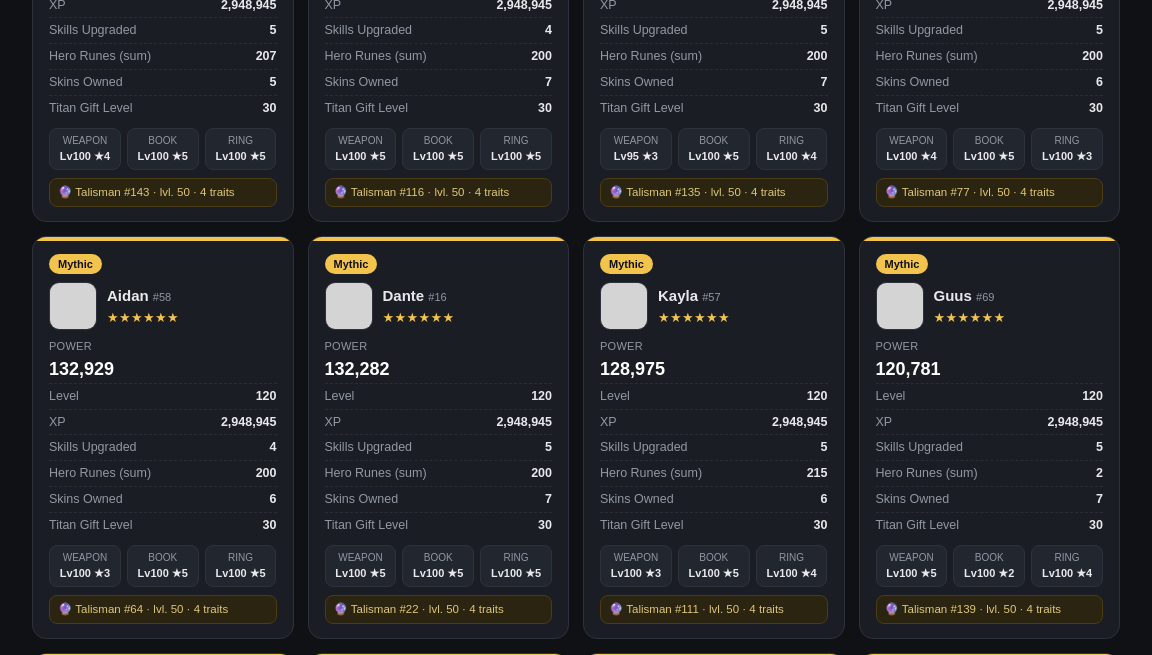
the card links to the hero page, which lists the counters
(page scrolled)
Click the link "Aidan" at (128, 296), box [107, 287, 149, 304]
(page scrolled)
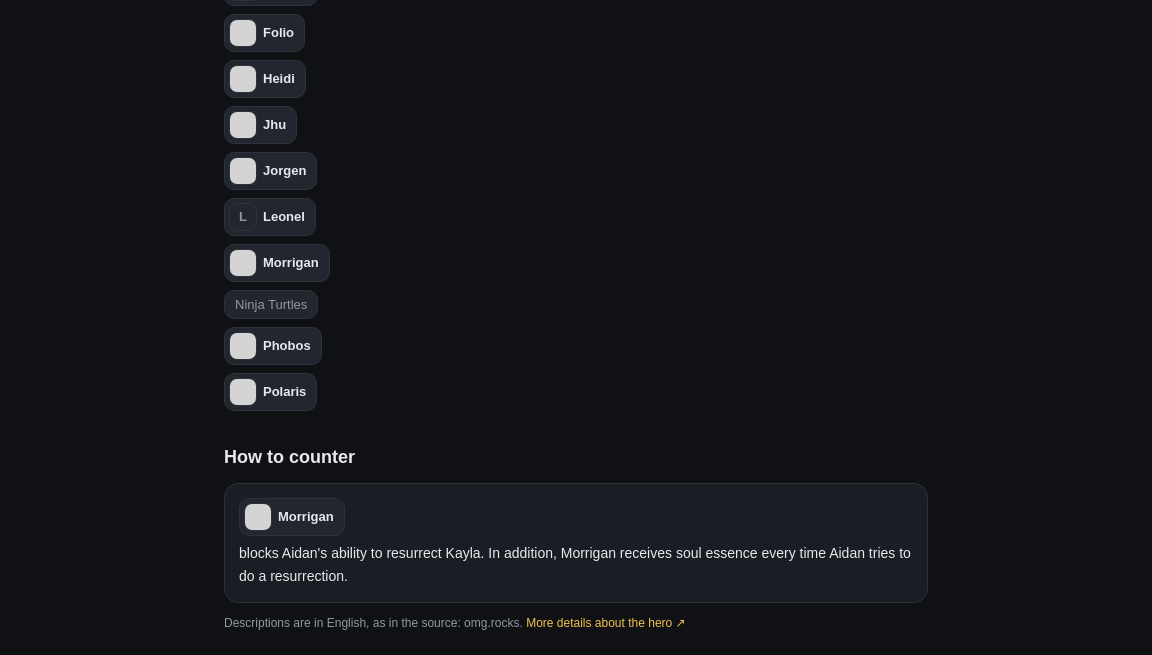
Check: the text "blocks Aidan's ability to resurrect Kayla" is shown, box [239, 545, 911, 584]
